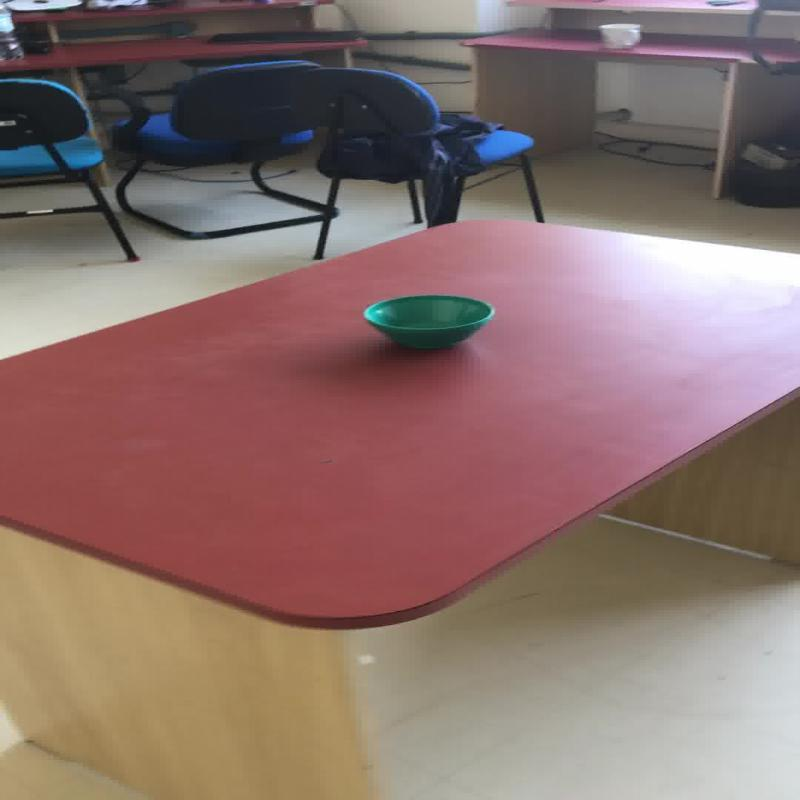bowl: (361, 293, 494, 349), (596, 22, 643, 48)
